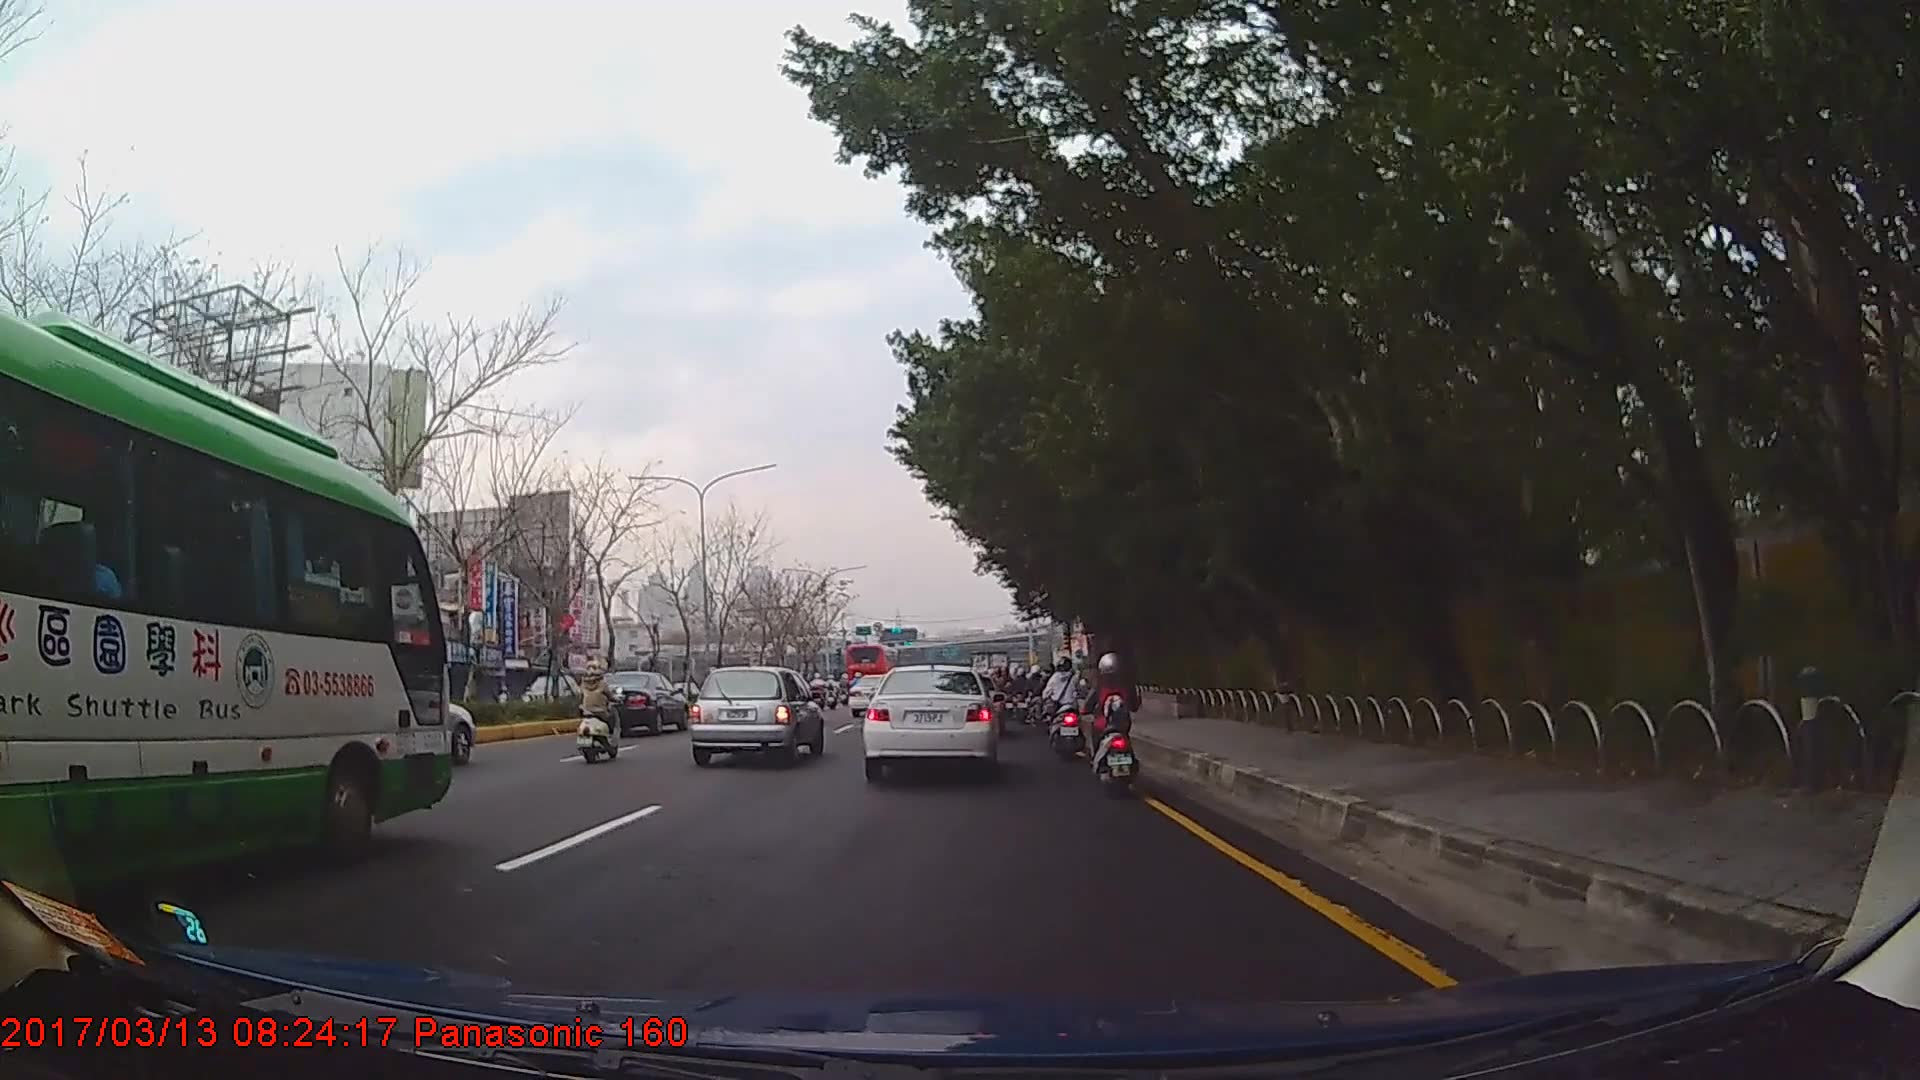rider: (1087, 654, 1142, 802), (1047, 658, 1090, 764), (579, 659, 621, 765), (1040, 664, 1062, 743)
vehicle: (0, 289, 457, 905), (860, 665, 1000, 778), (687, 665, 825, 768), (578, 665, 690, 734), (843, 639, 898, 694)
